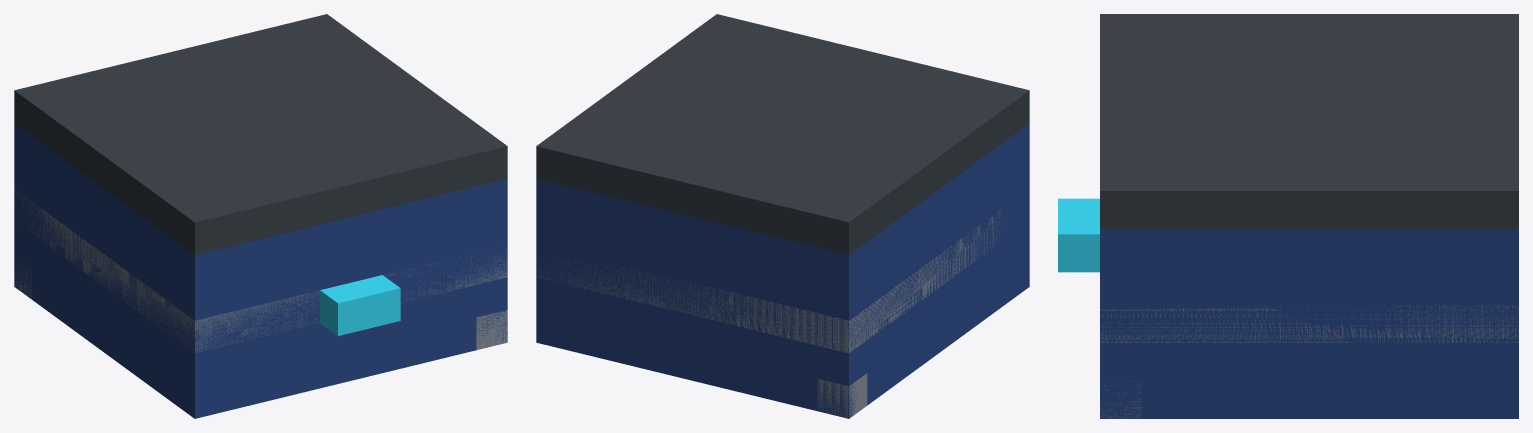
File: item_ammo_crate.glb
3 renders of one model, left to right at view 1: azimuth 30°, elevation 25°; view 2: azimuth 150°, elevation 25°; view 3: azimuth 270°, elevation 25°, orthographic. The views are drawn at different scales.
Visible parts, largest first — view 1: Crate mesh, Lid mesh, Band mesh, Light mesh, Corner mesh; view 2: Crate mesh, Lid mesh, Band mesh, Corner mesh; view 3: Lid mesh, Crate mesh, Band mesh, Light mesh.
Part boxes in pixels (x1=…): Crate mesh: x1=14, y1=123, x2=507, y2=418; Lid mesh: x1=14, y1=14, x2=507, y2=254; Band mesh: x1=14, y1=189, x2=507, y2=352; Light mesh: x1=320, y1=275, x2=400, y2=335; Corner mesh: x1=14, y1=263, x2=507, y2=349; Crate mesh: x1=536, y1=123, x2=1029, y2=418; Lid mesh: x1=536, y1=14, x2=1029, y2=254; Band mesh: x1=536, y1=211, x2=1004, y2=352; Corner mesh: x1=817, y1=373, x2=867, y2=417; Lid mesh: x1=1100, y1=14, x2=1518, y2=228; Crate mesh: x1=1100, y1=229, x2=1518, y2=418; Band mesh: x1=1100, y1=305, x2=1518, y2=342; Light mesh: x1=1058, y1=198, x2=1099, y2=272.
Bounding box in the file's own units: 10 × 6 × 11.
1 material, 1 textured.
